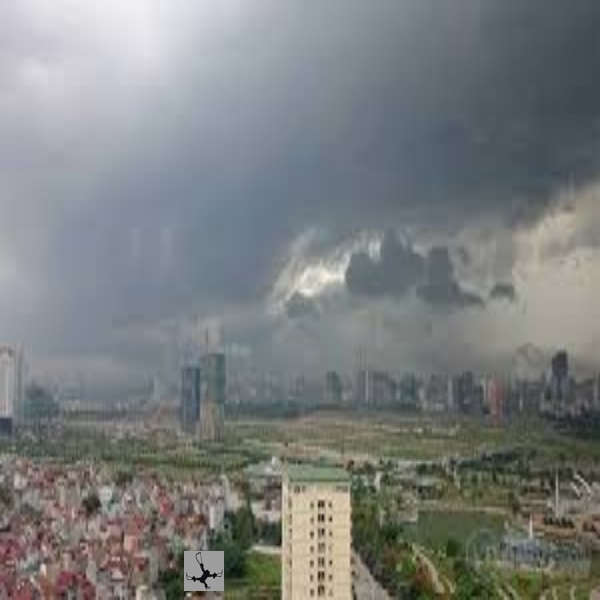drone: (182, 543, 228, 594)
